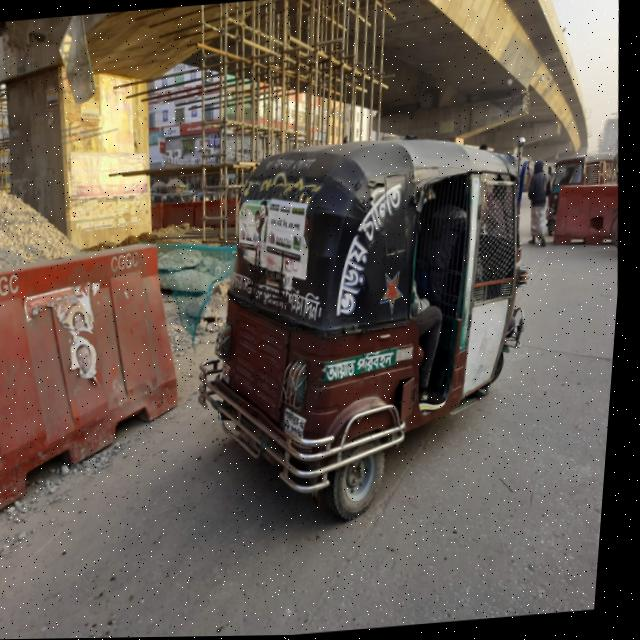cng: (193, 99, 532, 541)
